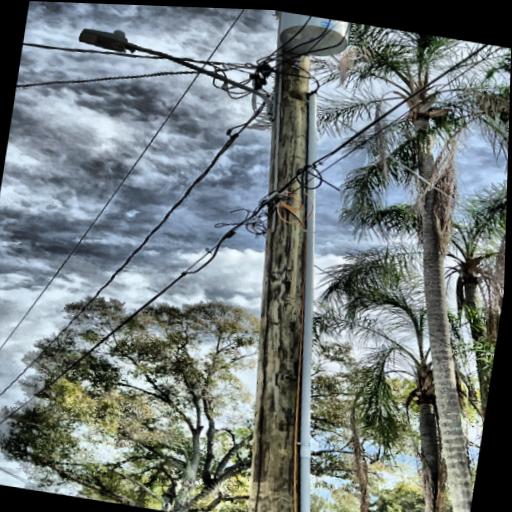pole: (185, 7, 434, 512)
street light: (67, 23, 288, 122)
transformer: (268, 10, 355, 63)
